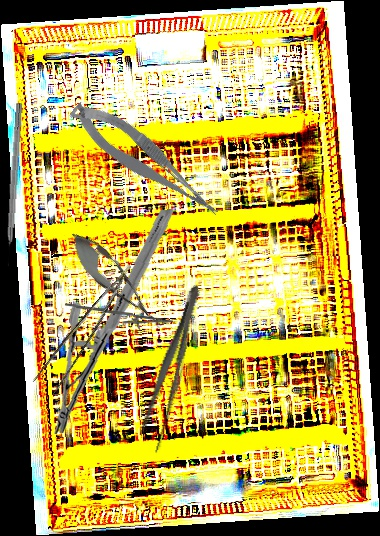Dressing Forceps: (135, 281, 209, 456)
Hook Surgical: (2, 102, 24, 267)
Micro Scissor: (65, 87, 225, 236), (60, 223, 172, 339)
Needle Holder: (41, 209, 185, 434), (64, 303, 174, 331)
Tissue Forceps: (28, 264, 151, 398)
